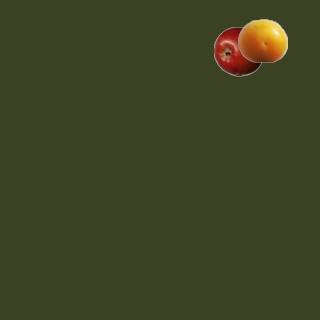Apple Braeburn: (213, 26, 263, 76)
Cherry Wax Yellow: (237, 15, 287, 65)
